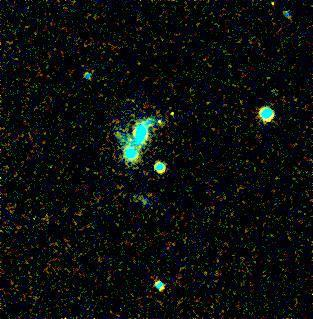star: (117, 122, 147, 152)
